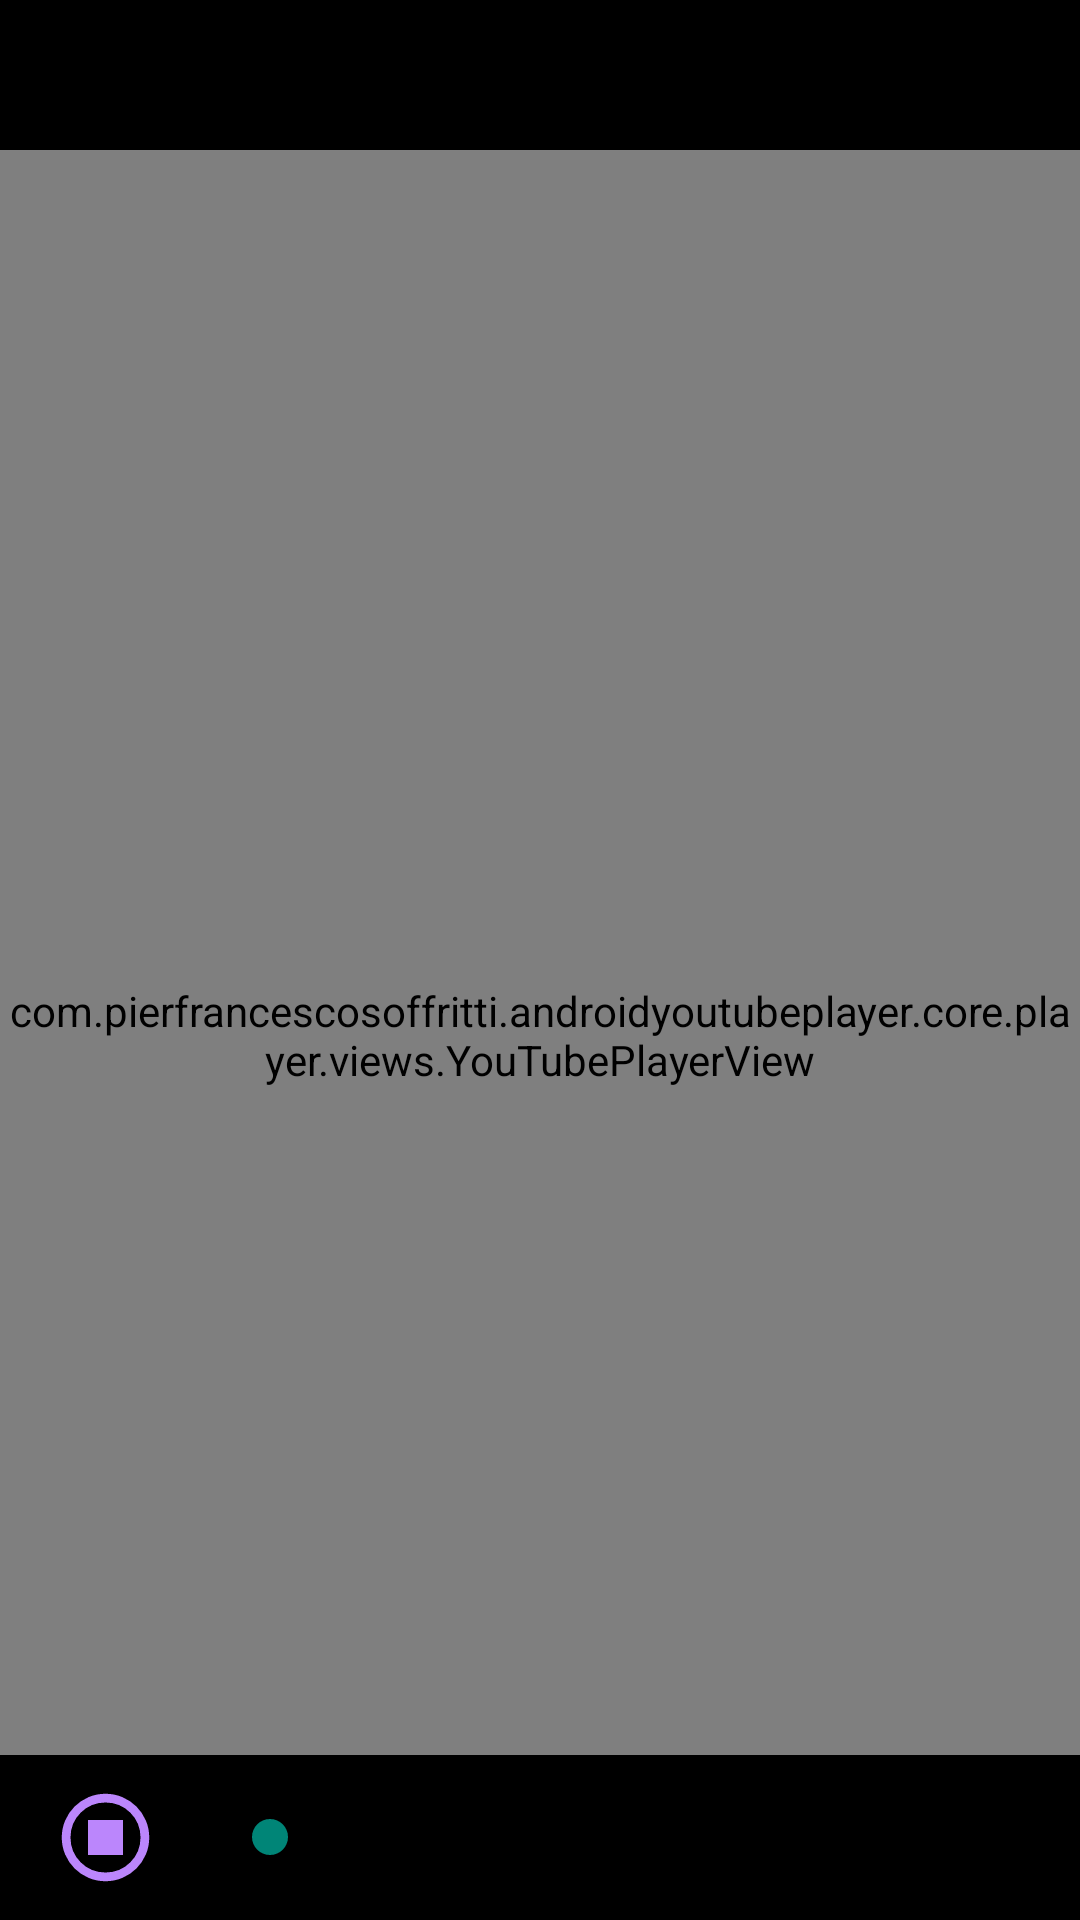

Screen size 1080px×1920px. Icon name, then its box in pixels as region(x1, y1, x2, y2):
stop circle: region(61, 1793, 150, 1882)
